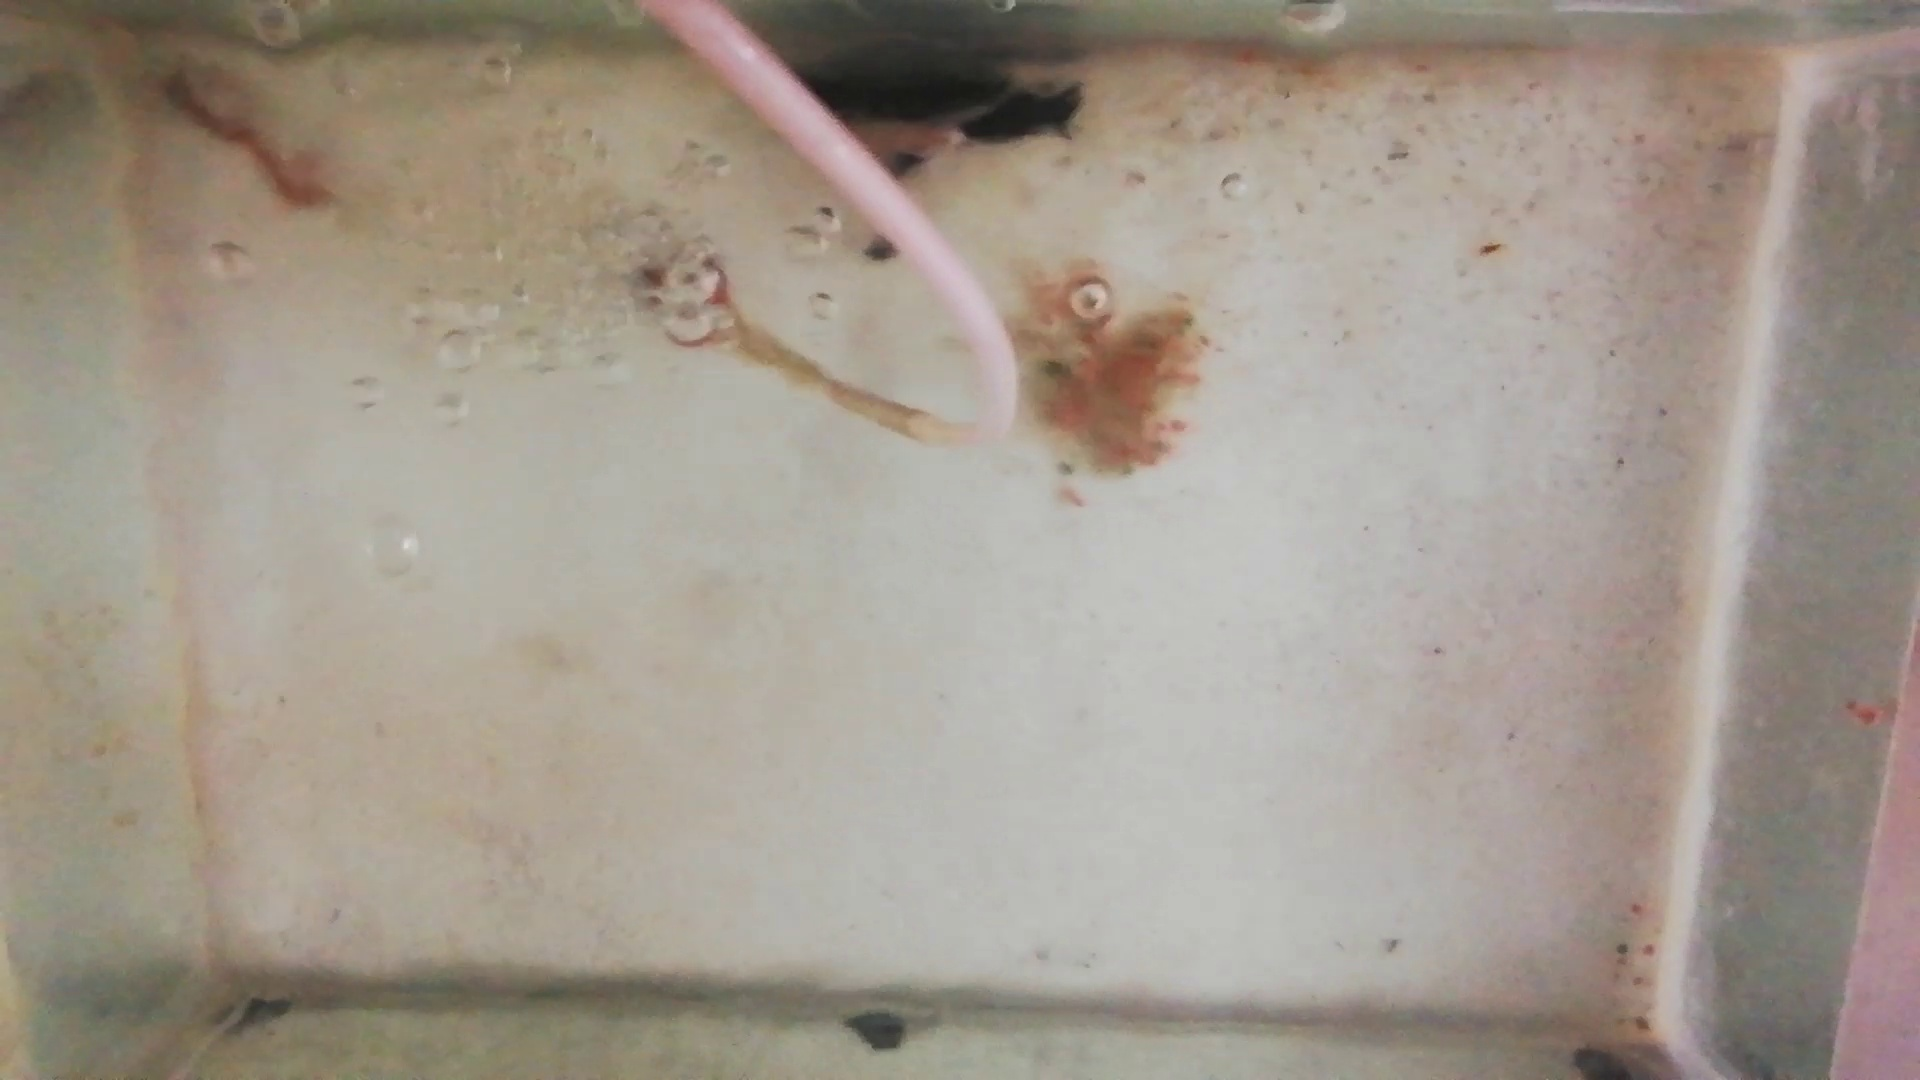fish: (160, 74, 340, 208), (857, 123, 969, 156)
